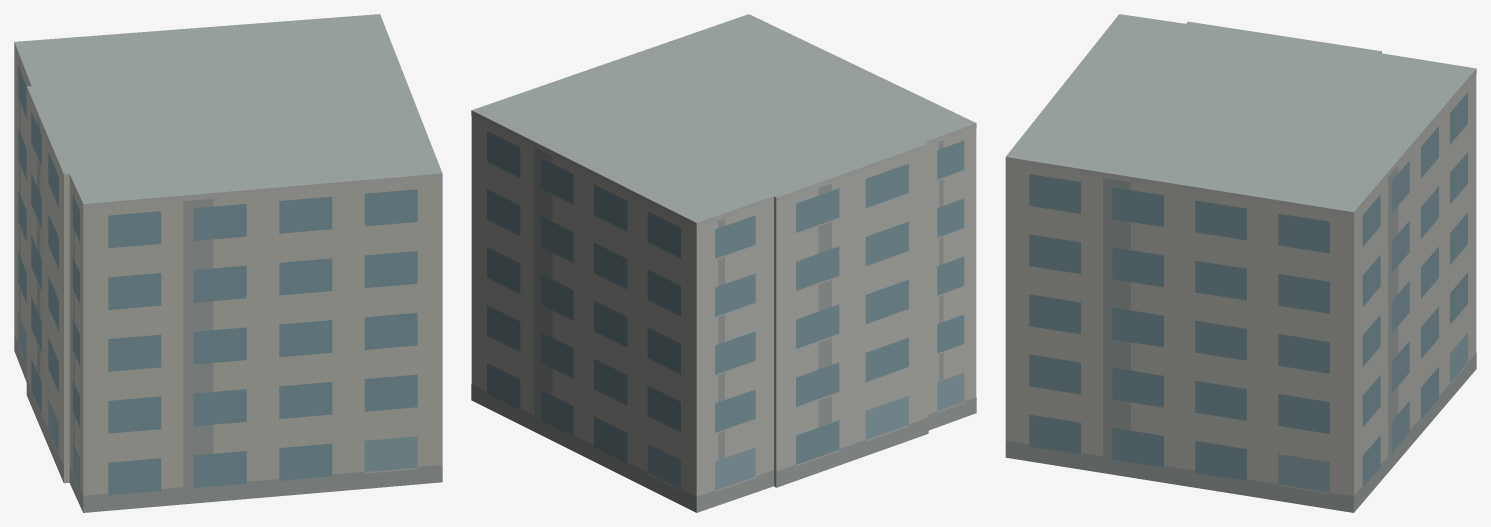
The model's file is survey-upis-32887495.glb.
The picture shows the model from 3 angles, left to right: view 1: azimuth 30°, elevation 25°; view 2: azimuth 150°, elevation 25°; view 3: azimuth 270°, elevation 25°; orthographic projection. The views are drawn at different scales.
Parts seen in each view (by area): view 1: survey-upis-32887495.tmp; view 2: survey-upis-32887495.tmp; view 3: survey-upis-32887495.tmp.
Boxes of the visible parts, x1,y1,x2,y2 form: survey-upis-32887495.tmp: [14, 14, 442, 512]; survey-upis-32887495.tmp: [471, 14, 976, 512]; survey-upis-32887495.tmp: [1005, 14, 1476, 512].
Bounding box in the file's own units: 18.96 × 13.4 × 19.03.
